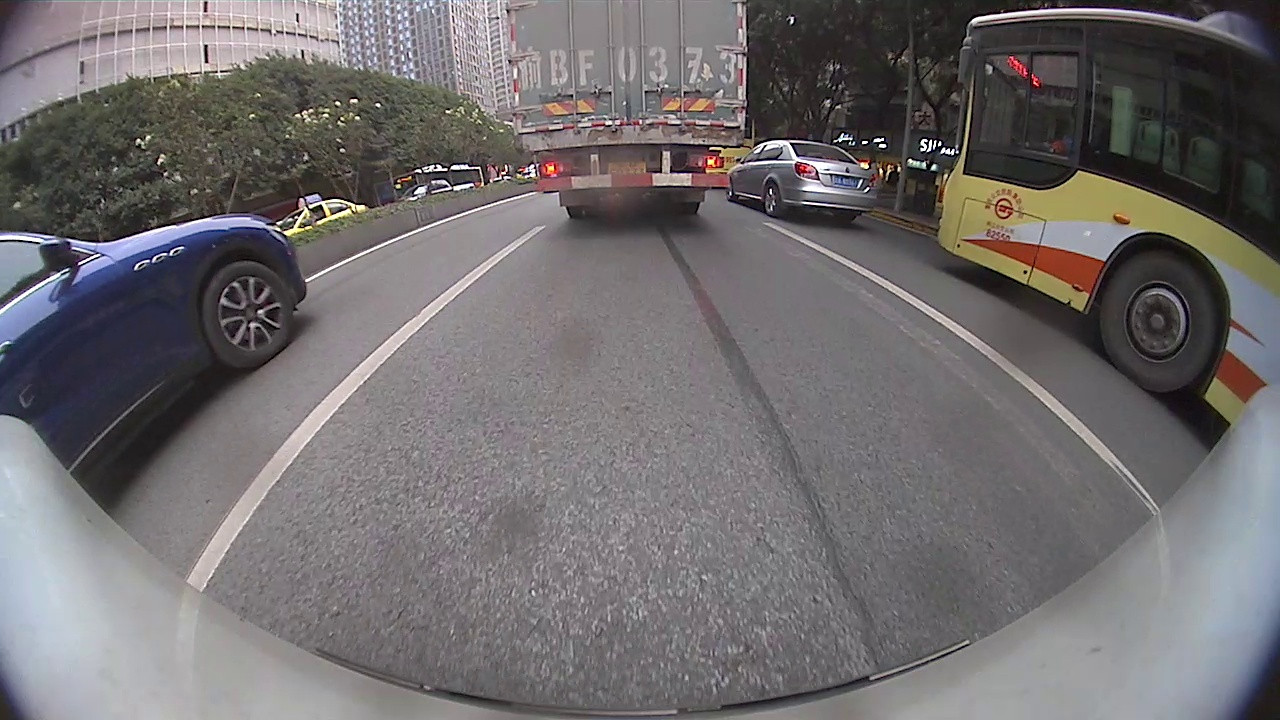bus: (934, 5, 1279, 427)
car: (1, 214, 311, 491), (726, 140, 879, 226)
front: (1094, 246, 1226, 395), (198, 258, 299, 373)
rear: (761, 180, 785, 218)
truck: (506, 0, 747, 222)
